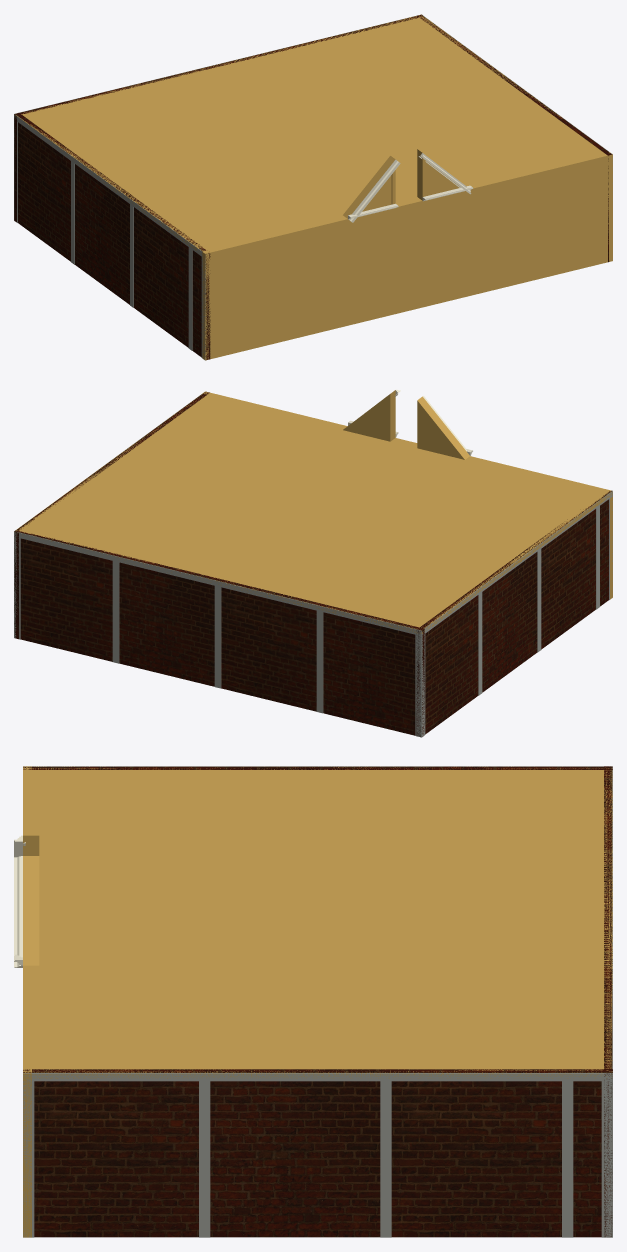
Rendered from building.glb.
3 renders of one model, top to bottom at view 1: azimuth 30°, elevation 25°; view 2: azimuth 150°, elevation 25°; view 3: azimuth 270°, elevation 25°, orthographic. The views are drawn at different scales.
Parts seen in each view (by area): view 1: roof/house:0/roof_slab#0001, house:0/edge0/z0/house:0/edge0/z0/wall_0_0, house:0/edge3/z0/house:0/edge3/z0/wall_0_0, house:0/edge2/z0/house:0/edge2/z0/wall_0_0, house:0/edge3/z0/house:0/edge3/z0/beam_0_0, house:0/edge1/z0/house:0/edge1/z0/wall_0_0, crown/coronamiento/crown_body#0001, crown/coronamiento/crown_body#0002, house:0/edge3/z0/house:0/edge3/z0/column_4_0, crown/coronamiento/crown_moulding#0001; view 2: roof/house:0/roof_slab#0001, house:0/edge2/z0/house:0/edge2/z0/wall_0_0, house:0/edge3/z0/house:0/edge3/z0/wall_0_0, house:0/edge2/z0/house:0/edge2/z0/beam_0_0, crown/coronamiento/crown_body#0001, crown/coronamiento/crown_body#0002, house:0/edge1/z0/house:0/edge1/z0/wall_0_0, house:0/edge0/z0/house:0/edge0/z0/wall_0_0, house:0/edge3/z0/house:0/edge3/z0/beam_0_0, house:0/edge2/z0/house:0/edge2/z0/column_2_0, house:0/edge2/z0/house:0/edge2/z0/column_3_0, house:0/edge2/z0/house:0/edge2/z0/column_4_0 (+4 smaller); view 3: roof/house:0/roof_slab#0001, house:0/edge1/z0/house:0/edge1/z0/wall_0_0, house:0/edge1/z0/house:0/edge1/z0/beam_0_0, house:0/edge2/z0/house:0/edge2/z0/wall_0_0, house:0/edge0/z0/house:0/edge0/z0/wall_0_0, house:0/edge3/z0/house:0/edge3/z0/wall_0_0, house:0/edge1/z0/house:0/edge1/z0/column_1_0, house:0/edge1/z0/house:0/edge1/z0/column_2_0, house:0/edge1/z0/house:0/edge1/z0/column_3_0, house:0/edge1/z0/house:0/edge1/z0/column_4_0, crown/coronamiento/crown_body#0002, house:0/edge1/z0/house:0/edge1/z0/column_0_0 (+1 smaller).
Part boxes in pixels (left/top/right/bottom): roof/house:0/roof_slab#0001: left=15, top=15, right=612, bottom=257; house:0/edge0/z0/house:0/edge0/z0/wall_0_0: left=202, top=152, right=612, bottom=360; house:0/edge3/z0/house:0/edge3/z0/wall_0_0: left=16, top=113, right=210, bottom=359; house:0/edge2/z0/house:0/edge2/z0/wall_0_0: left=14, top=14, right=422, bottom=222; house:0/edge3/z0/house:0/edge3/z0/beam_0_0: left=14, top=114, right=205, bottom=258; house:0/edge1/z0/house:0/edge1/z0/wall_0_0: left=417, top=15, right=612, bottom=262; crown/coronamiento/crown_body#0001: left=343, top=156, right=394, bottom=217; crown/coronamiento/crown_body#0002: left=417, top=149, right=460, bottom=199; house:0/edge3/z0/house:0/edge3/z0/column_4_0: left=188, top=247, right=192, bottom=350; crown/coronamiento/crown_moulding#0001: left=348, top=159, right=400, bottom=222; roof/house:0/roof_slab#0001: left=16, top=392, right=612, bottom=633; house:0/edge2/z0/house:0/edge2/z0/wall_0_0: left=14, top=530, right=424, bottom=736; house:0/edge3/z0/house:0/edge3/z0/wall_0_0: left=416, top=490, right=612, bottom=736; house:0/edge2/z0/house:0/edge2/z0/beam_0_0: left=14, top=532, right=421, bottom=636; crown/coronamiento/crown_body#0001: left=417, top=397, right=469, bottom=459; crown/coronamiento/crown_body#0002: left=343, top=390, right=394, bottom=441; house:0/edge1/z0/house:0/edge1/z0/wall_0_0: left=14, top=391, right=209, bottom=639; house:0/edge0/z0/house:0/edge0/z0/wall_0_0: left=202, top=391, right=612, bottom=599; house:0/edge3/z0/house:0/edge3/z0/beam_0_0: left=422, top=491, right=612, bottom=635; house:0/edge2/z0/house:0/edge2/z0/column_2_0: left=112, top=561, right=119, bottom=663; house:0/edge2/z0/house:0/edge2/z0/column_3_0: left=214, top=586, right=221, bottom=688; house:0/edge2/z0/house:0/edge2/z0/column_4_0: left=316, top=610, right=323, bottom=713; roof/house:0/roof_slab#0001: left=23, top=766, right=612, bottom=1078; house:0/edge1/z0/house:0/edge1/z0/wall_0_0: left=23, top=1069, right=612, bottom=1237; house:0/edge1/z0/house:0/edge1/z0/beam_0_0: left=23, top=1073, right=612, bottom=1081; house:0/edge2/z0/house:0/edge2/z0/wall_0_0: left=604, top=766, right=612, bottom=1236; house:0/edge0/z0/house:0/edge0/z0/wall_0_0: left=23, top=766, right=31, bottom=1237; house:0/edge3/z0/house:0/edge3/z0/wall_0_0: left=23, top=766, right=612, bottom=769; house:0/edge1/z0/house:0/edge1/z0/column_1_0: left=601, top=1081, right=612, bottom=1237; house:0/edge1/z0/house:0/edge1/z0/column_2_0: left=199, top=1081, right=210, bottom=1237; house:0/edge1/z0/house:0/edge1/z0/column_3_0: left=380, top=1081, right=391, bottom=1237; house:0/edge1/z0/house:0/edge1/z0/column_4_0: left=562, top=1081, right=573, bottom=1237; crown/coronamiento/crown_body#0002: left=25, top=856, right=39, bottom=965; house:0/edge1/z0/house:0/edge1/z0/column_0_0: left=23, top=1081, right=34, bottom=1237.
Bounding box in the file's own units: 16 × 5.8 × 13.2.
4 materials, 1 textured.
